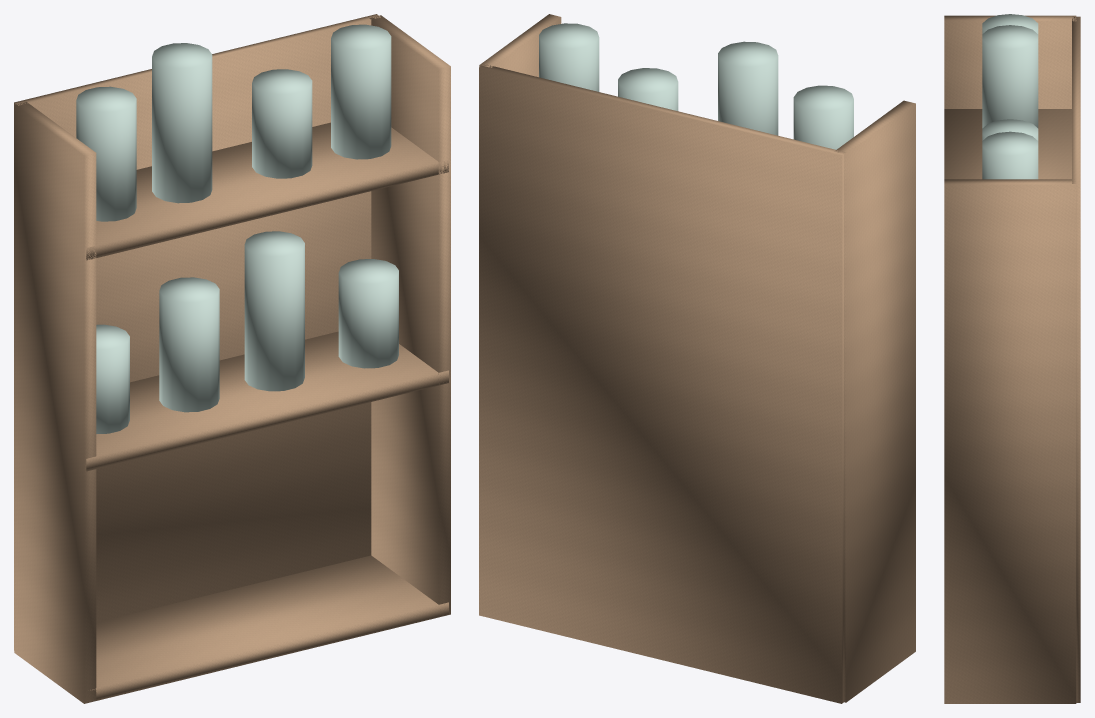
File: Bocaux.glb
3 views of the same model, side by side, from view 1: azimuth 30°, elevation 25°; view 2: azimuth 150°, elevation 25°; view 3: azimuth 270°, elevation 25° (orthographic). The views are drawn at different scales.
Parts seen in each view (by area): view 1: Etagere, Bocaux_Verre; view 2: Etagere, Bocaux_Verre; view 3: Etagere, Bocaux_Verre.
Boxes of the visible parts, x1,y1,x2,y2 form: Etagere: (14, 14, 450, 703); Bocaux_Verre: (76, 24, 398, 433); Etagere: (479, 14, 915, 703); Bocaux_Verre: (539, 23, 853, 149); Etagere: (944, 15, 1080, 703); Bocaux_Verre: (982, 14, 1038, 179).
Bounding box in the file's own units: 0.91 × 1.4 × 0.31.
3 materials, 1 textured.
